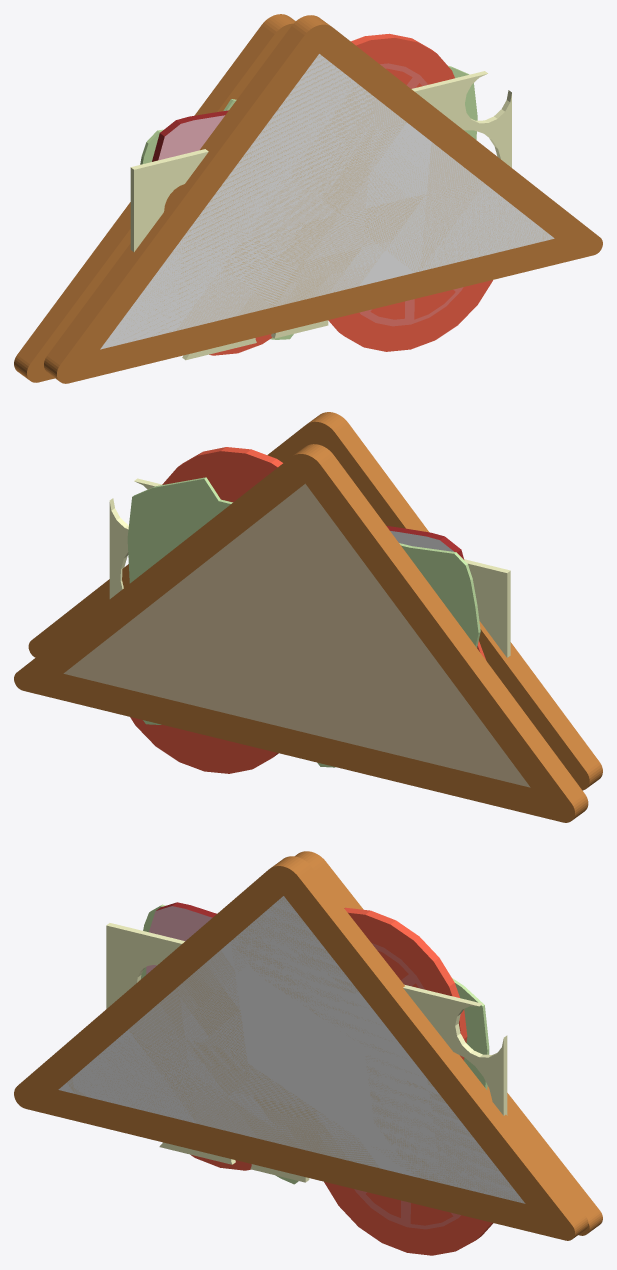
3 views of the same model, one above another, from view 1: azimuth 30°, elevation 25°; view 2: azimuth 150°, elevation 25°; view 3: azimuth 330°, elevation 25° (orthographic). The views are drawn at different scales.
Parts seen in each view (by area): view 1: sandwich; view 2: sandwich; view 3: sandwich.
Part boxes in pixels (x1=…): sandwich: x1=14, y1=14, x2=602, y2=383; sandwich: x1=14, y1=412, x2=602, y2=822; sandwich: x1=14, y1=851, x2=602, y2=1255.
Bounding box in the file's own units: 13.49 × 8.39 × 1.48.
